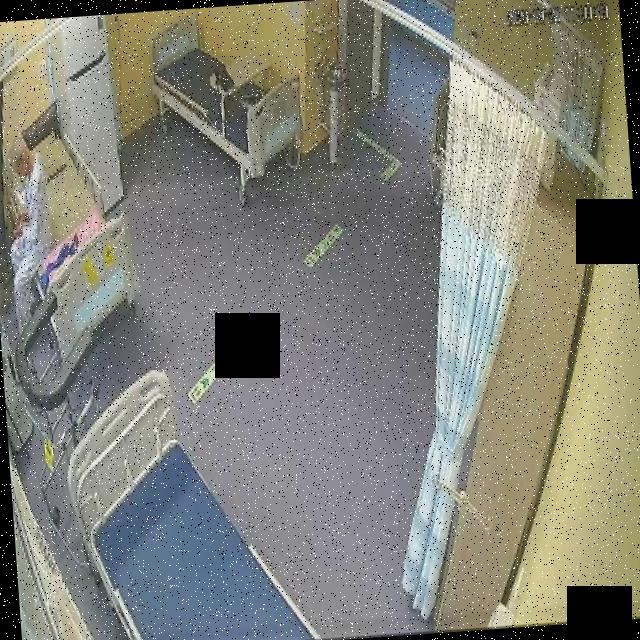bed: (57, 357, 316, 640), (0, 114, 140, 347), (150, 9, 306, 182)
patient: (0, 128, 59, 338)
sit: (0, 129, 58, 339)
